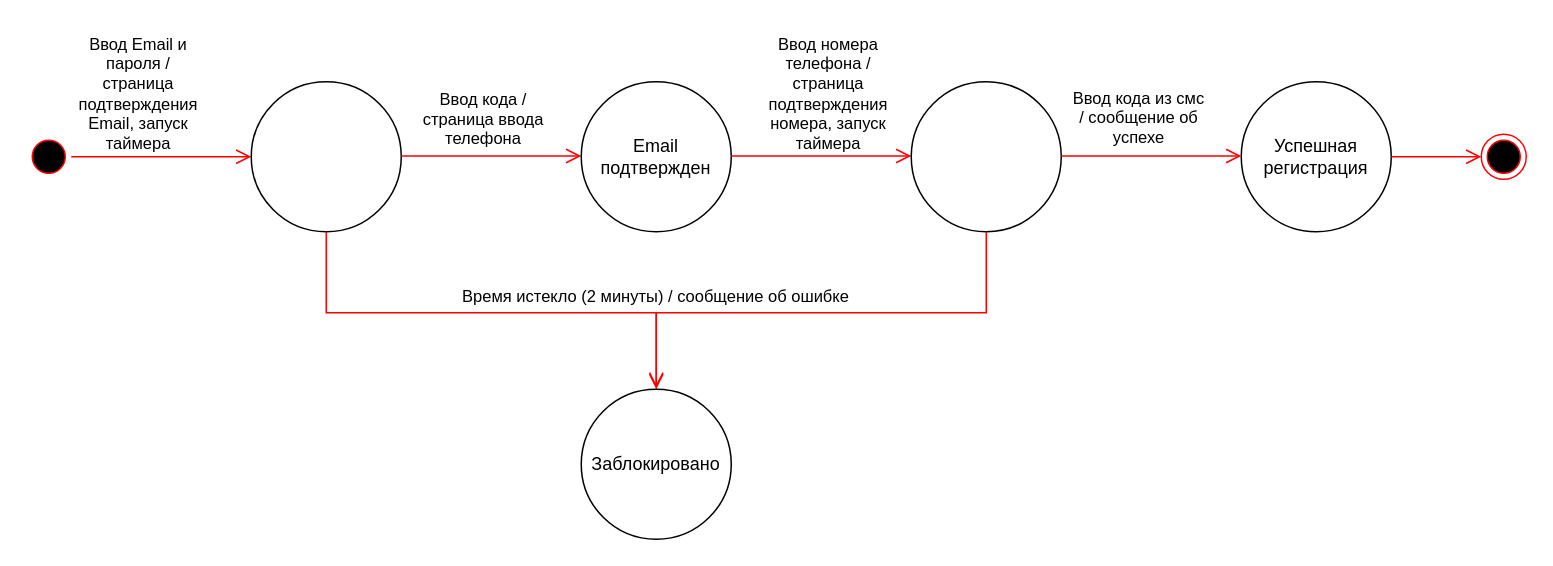
The diagram is 1553 pixels wide and 566 high, and some of its shapes have lost their labels. Each missing label, with the centre of its shape:
"Ожидает подтверждения Email" goes at (x=325, y=156).
"Ожидает подтверждения Телефона" goes at (x=985, y=156).
